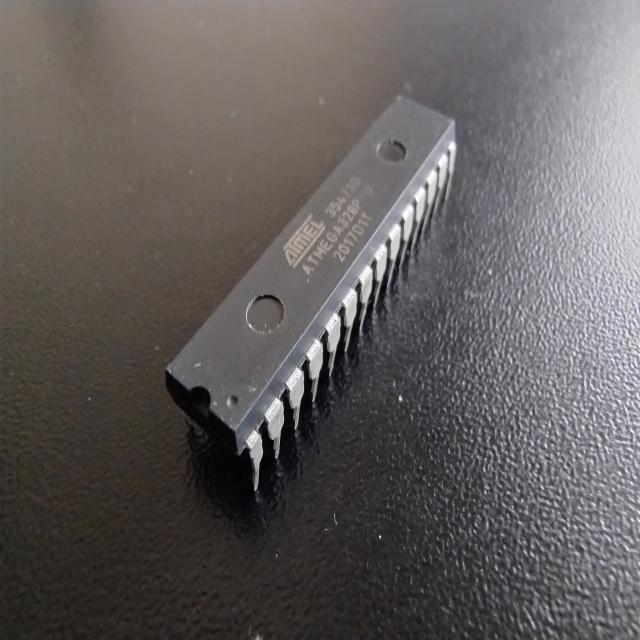atmega: (163, 90, 460, 493)
